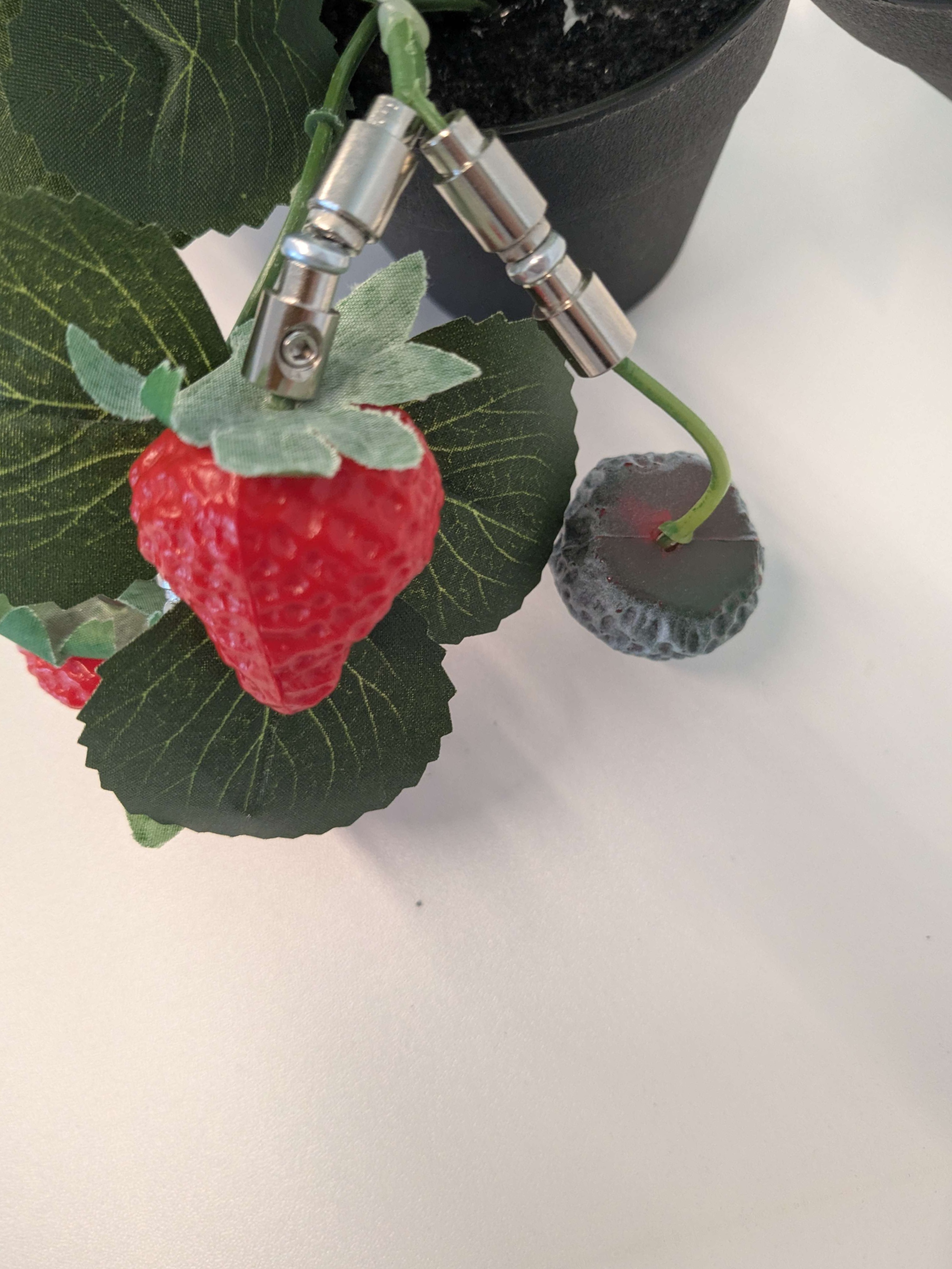Strawberry: (74, 292, 506, 784), (6, 596, 138, 741)
